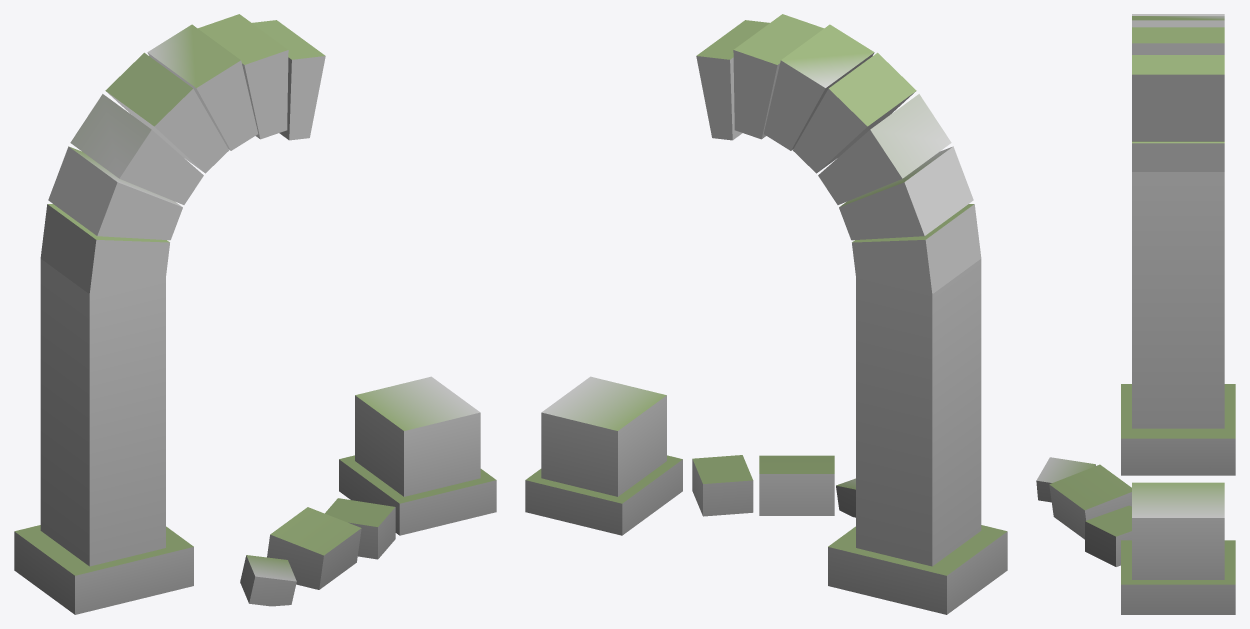
Rendered from arch_broken.glb.
The picture shows the model from 3 angles, left to right: view 1: azimuth 30°, elevation 25°; view 2: azimuth 150°, elevation 25°; view 3: azimuth 270°, elevation 25°; orthographic projection. The views are drawn at different scales.
Parts seen in each view (by area): view 1: arch_broken; view 2: arch_broken; view 3: arch_broken.
Boxes of the visible parts, x1=… form: arch_broken: x1=14, y1=14, x2=496, y2=614; arch_broken: x1=525, y1=14, x2=1007, y2=614; arch_broken: x1=1036, y1=14, x2=1235, y2=614.
Bounding box in the file's own units: 2.48 × 2.86 × 1.08.
